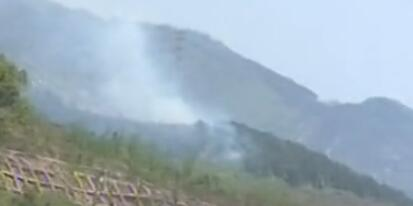yanwu: (3, 1, 241, 166)
